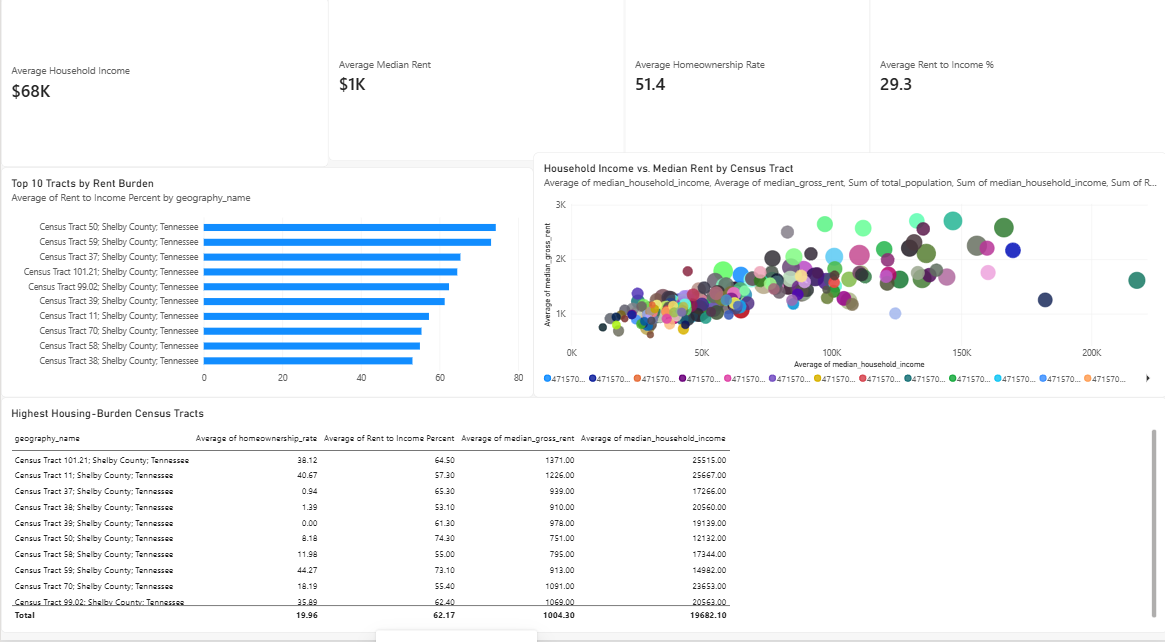

The dashboard page shown, as its layout file describes it:
{"tool":"powerbi","page":{"name":"Housing Affordability","canvas":[1920,1080],"ordinal":1},"visuals":[{"type":"cardVisual","fields":{"Data":["CensusTracts.Average Median Rent"]},"box":[539.3,10.3,487.8,279.9],"z":0},{"type":"cardVisual","fields":{"Data":["CensusTracts.Average Homeownership Rate"]},"box":[1027.1,0,403.4,300.5],"z":1},{"type":"cardVisual","fields":{"Data":["CensusTracts.Average Rent to Income %"]},"box":[1430.5,0,489.9,300.5],"z":2},{"type":"cardVisual","fields":{"Data":["CensusTracts.Average Household Income"]},"box":[0,20.6,539.3,279.9],"z":3},{"type":"barChart","title":"Top 10 Tracts by Rent Burden","fields":{"Category":["CensusTracts.geography_name"],"Y":["Avg(CensusTracts.Rent to Income Percent)"]},"box":[0,300.5,876.8,378.7],"z":4},{"type":"scatterChart","title":"Household Income vs. Median Rent by Census Tract","fields":{"Series":["CensusTracts.tract_geoid"],"Size":["Sum(CensusTracts.total_population)"],"X":["CensusTracts.median_household_income"],"Y":["CensusTracts.median_gross_rent"]},"box":[876.8,275.8,1043.6,403.4],"z":5},{"type":"tableEx","title":"Highest Housing-Burden Census Tracts","fields":{"Values":["CensusTracts.geography_name","Avg(CensusTracts.homeownership_rate)","Avg(CensusTracts.Rent to Income Percent)","Avg(CensusTracts.median_gross_rent)","Avg(CensusTracts.median_household_income)"]},"box":[0,679.2,1920.4,387],"z":6}]}

Visuals, with their boxes in screenshot pixels (x1, y1, x2, y2), scaled from the page's 1920x1080 canvas onto the 1165x642 screenshot:
cardVisual - CensusTracts.Average Median Rent: l=327, t=6, r=623, b=173
cardVisual - CensusTracts.Average Homeownership Rate: l=623, t=0, r=868, b=179
cardVisual - CensusTracts.Average Rent to Income %: l=868, t=0, r=1164, b=179
cardVisual - CensusTracts.Average Household Income: l=0, t=12, r=327, b=179
"Top 10 Tracts by Rent Burden" barChart: l=0, t=179, r=532, b=404
"Household Income vs. Median Rent by Census Tract" scatterChart: l=532, t=164, r=1164, b=404
"Highest Housing-Burden Census Tracts" tableEx: l=0, t=404, r=1164, b=634
